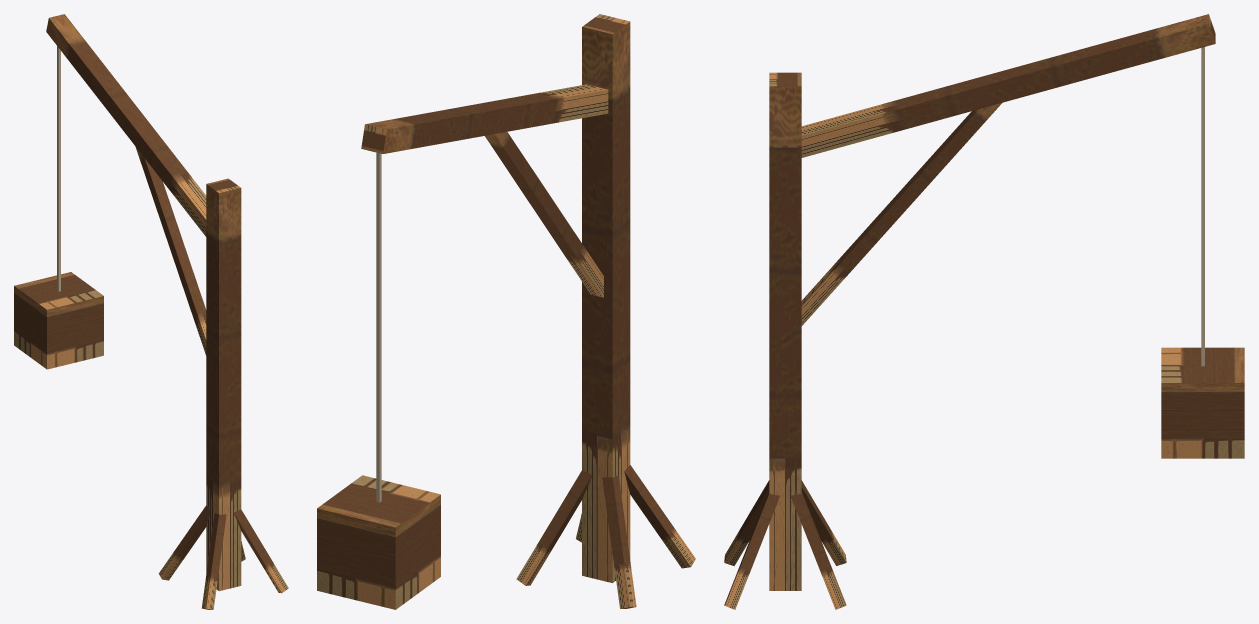
The model's file is Kran.gltf.
3 views of the same model, side by side, from view 1: azimuth 30°, elevation 25°; view 2: azimuth 150°, elevation 25°; view 3: azimuth 270°, elevation 25° (orthographic). The views are drawn at different scales.
Visible parts, largest first — view 1: Kran; view 2: Kran; view 3: Kran.
Part boxes in pixels (x1,y1,x2,y2): Kran: [14, 14, 288, 609]; Kran: [317, 14, 695, 609]; Kran: [724, 14, 1244, 609].
Size of the model in its own units: 1.32 by 6.76 by 5.61.
Materials: 2 (1 with a texture image).
